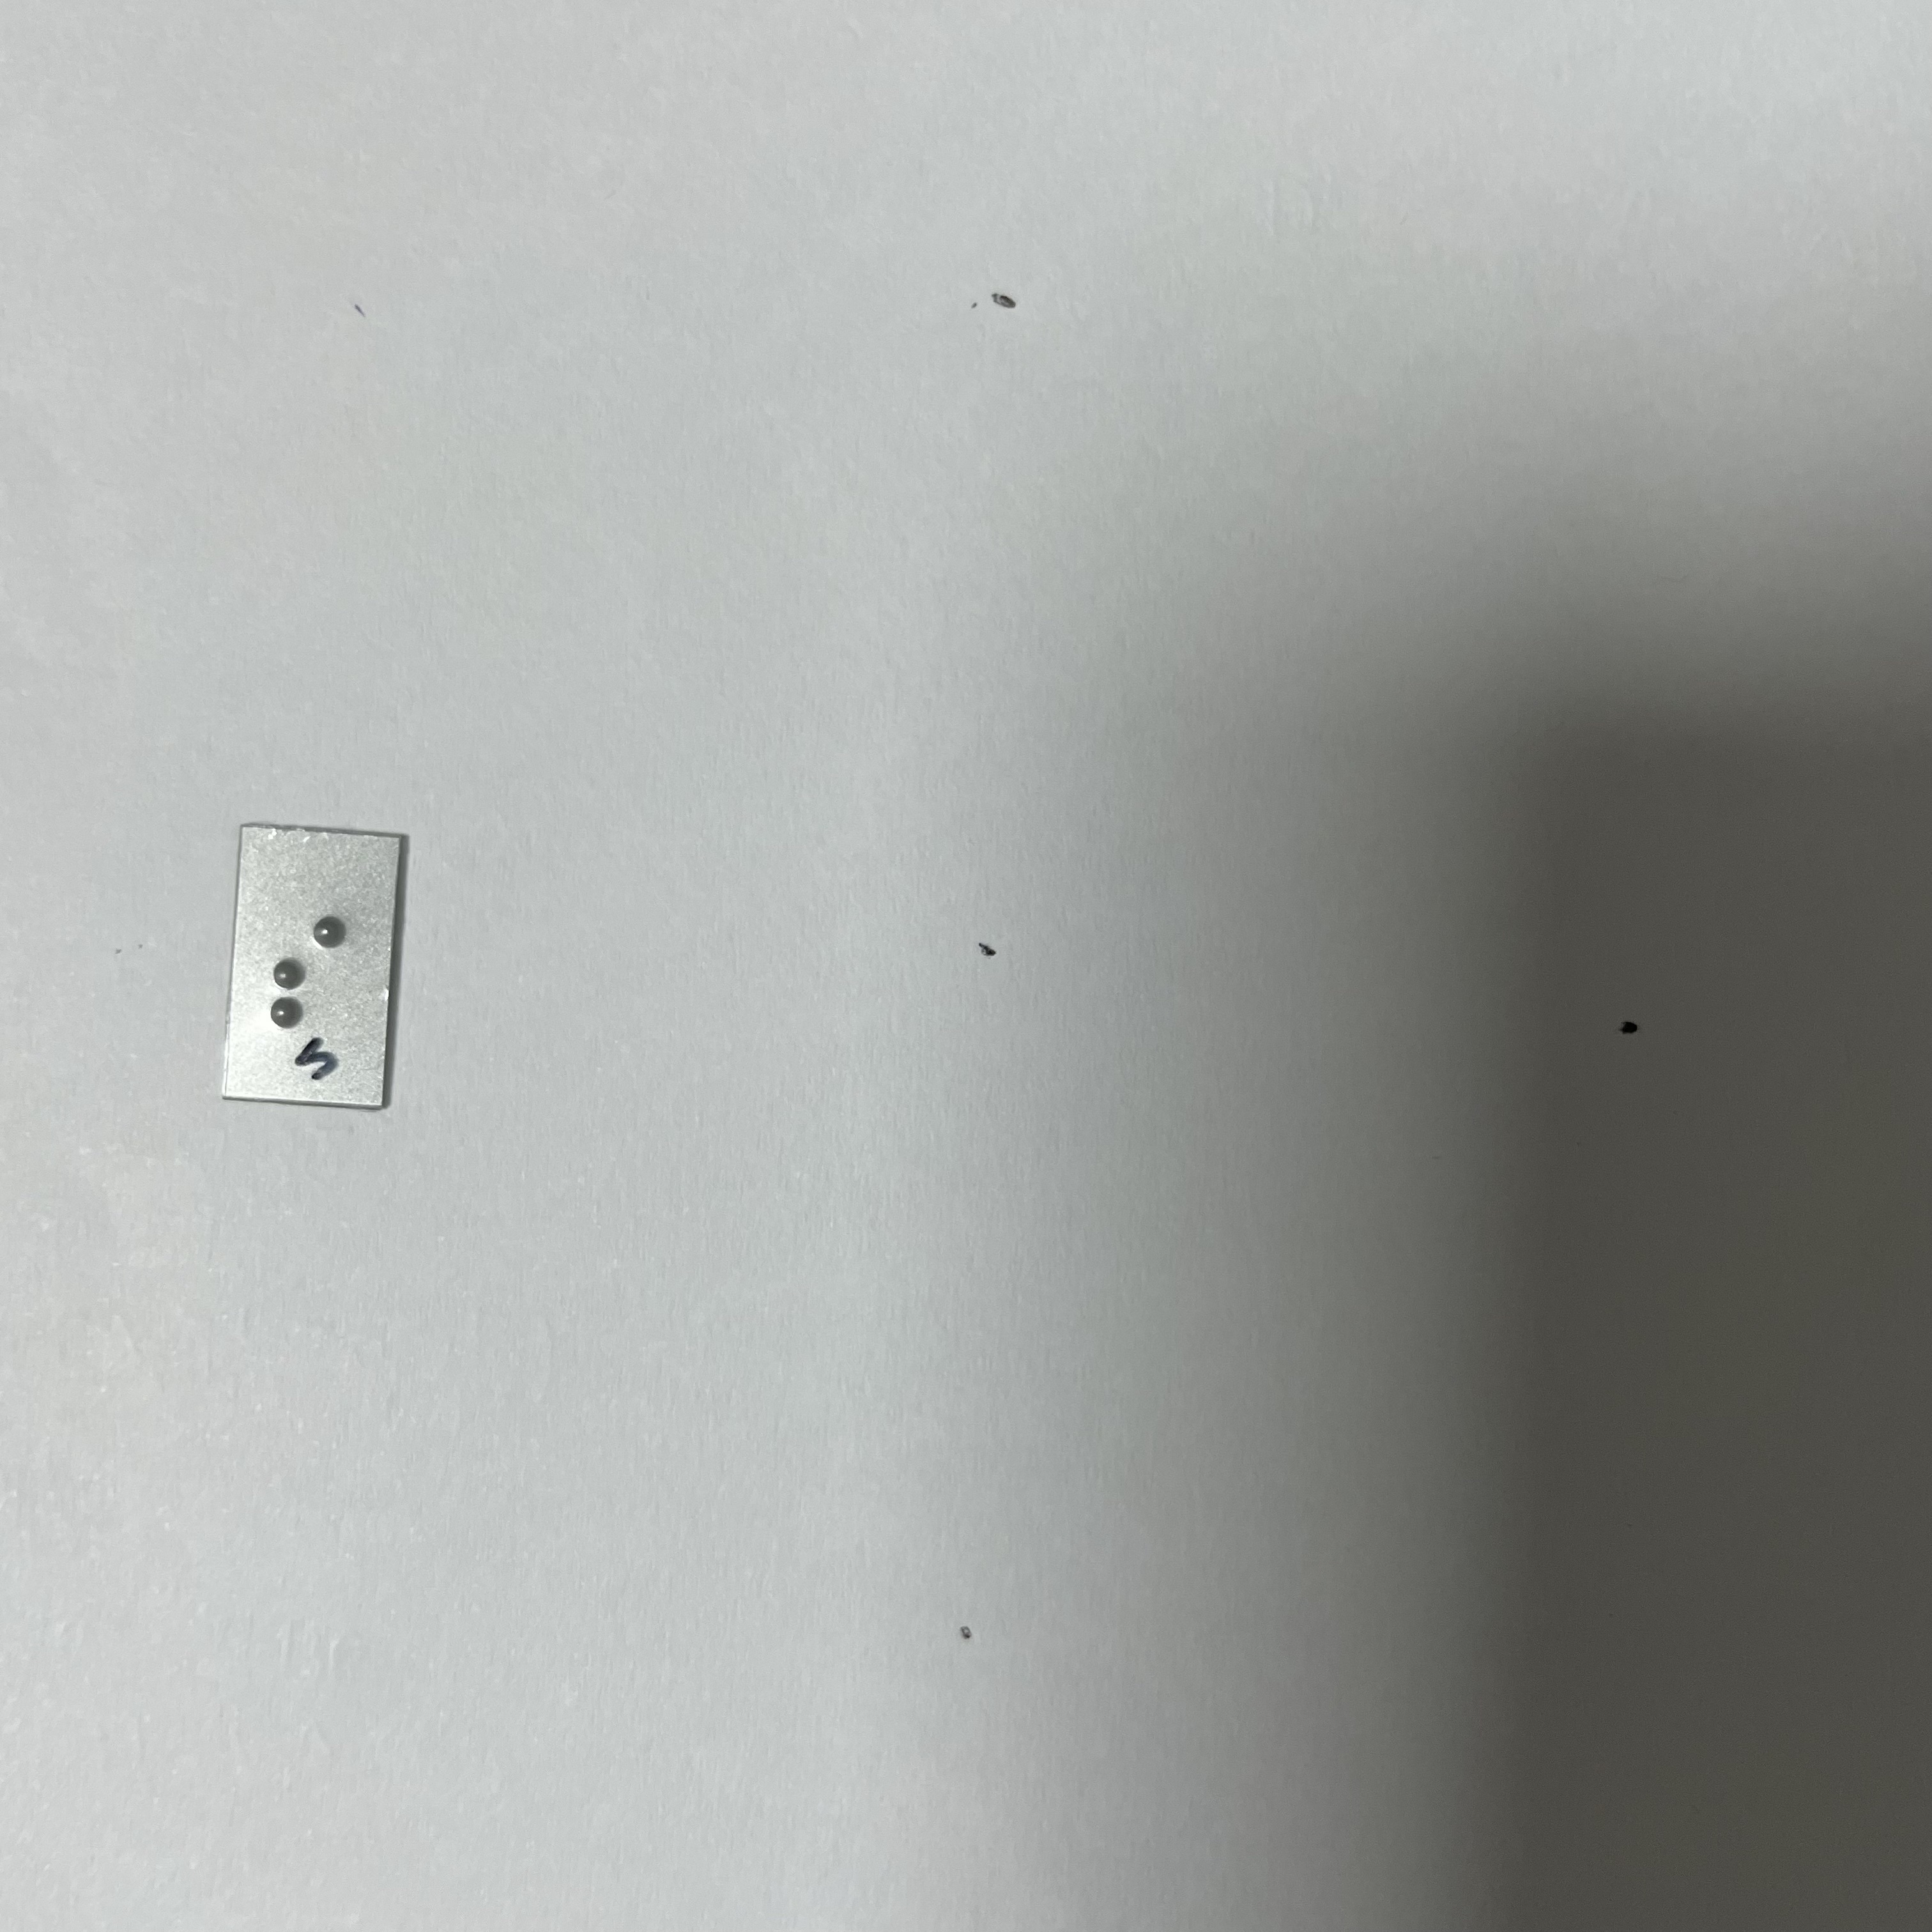s: (258, 904, 362, 1032)
